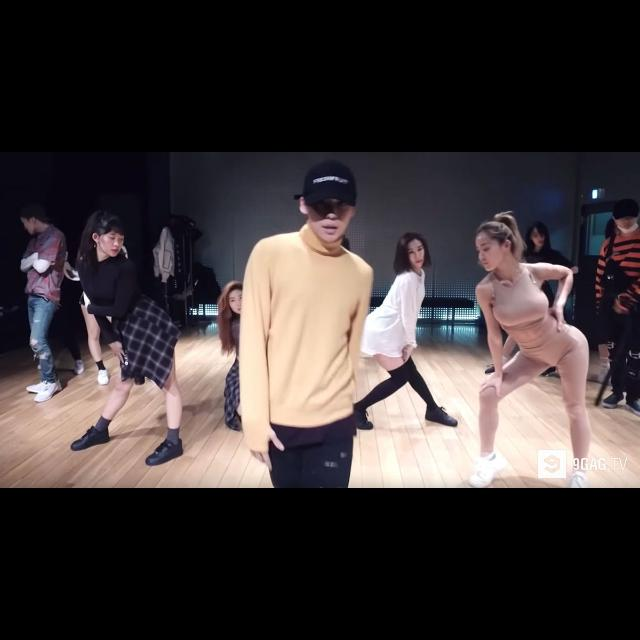head: (298, 166, 359, 244), (474, 221, 518, 273), (92, 212, 126, 258), (398, 232, 426, 268), (18, 204, 46, 236), (226, 282, 250, 316), (530, 223, 548, 247)
person: (67, 206, 189, 468), (340, 230, 462, 432), (482, 217, 584, 381), (213, 278, 295, 448), (15, 200, 69, 406)
